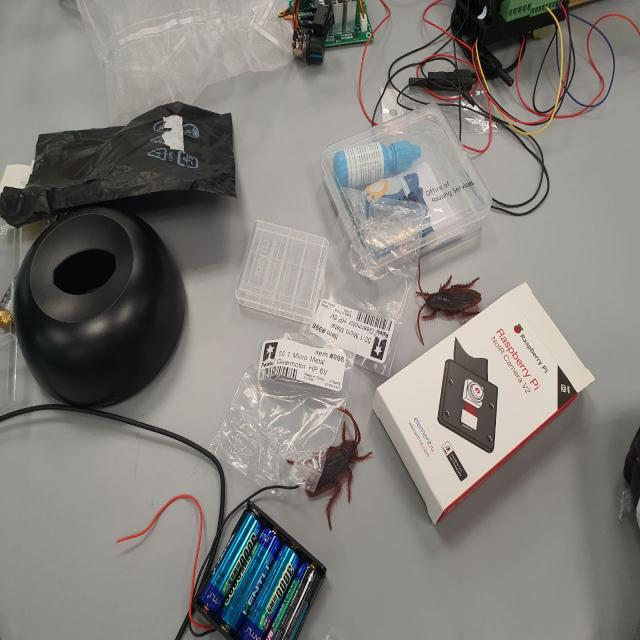Cockroach: (287, 403, 375, 528), (411, 258, 487, 353)
